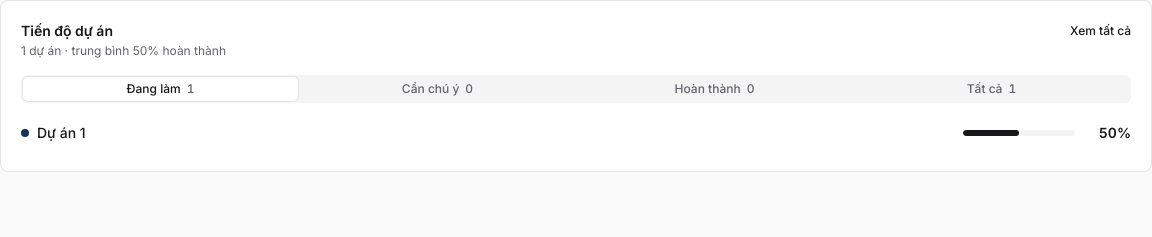
says so when a tab is empty
Click the tab "Cần chú ý 0" at (438, 89), box [300,77,575,101]
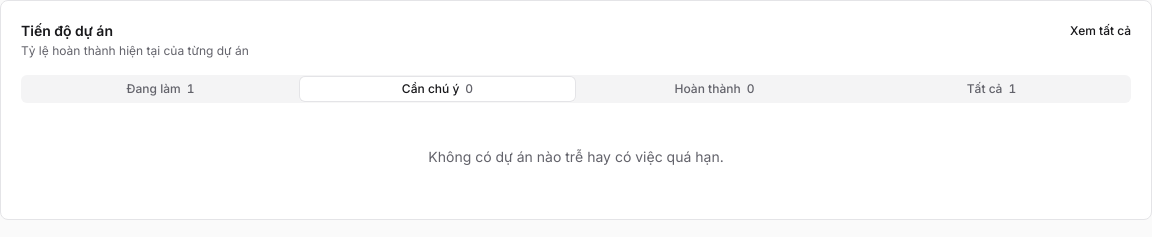
Expected: the text "Không có dự án nào trễ hay có việc quá hạn." is shown, [428,148,724,165]
